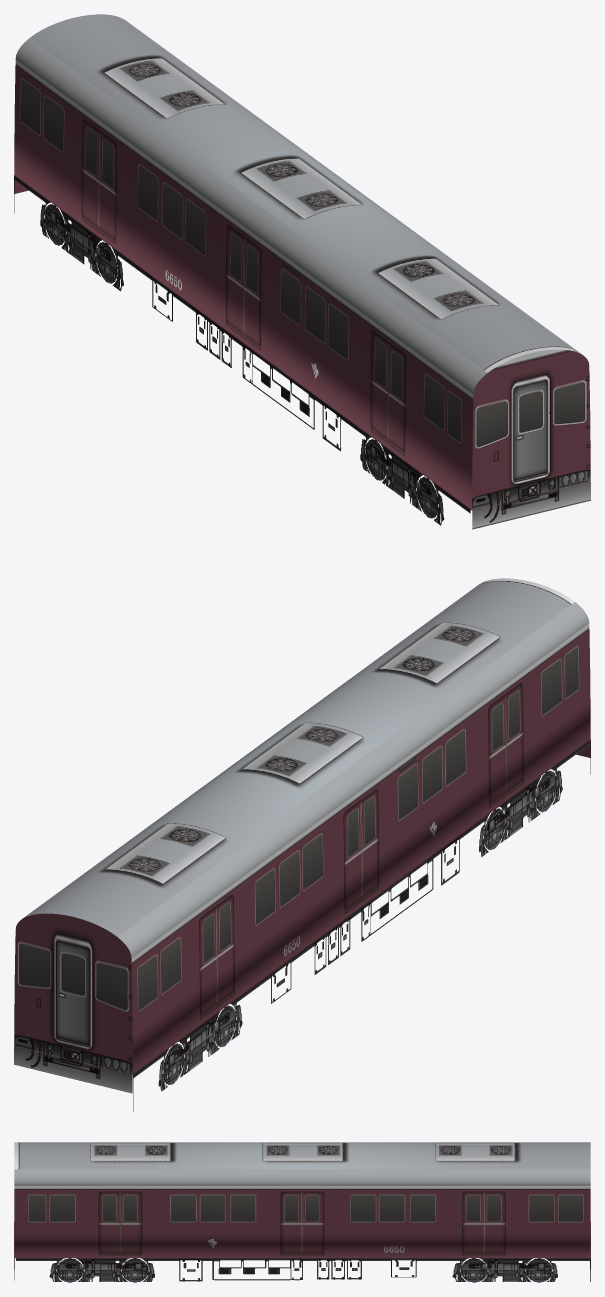
The model's file is car2.glb.
3 views of the same model, one above another, from view 1: azimuth 30°, elevation 25°; view 2: azimuth 150°, elevation 25°; view 3: azimuth 270°, elevation 25° (orthographic). The views are drawn at different scales.
Parts seen in each view (by area): view 1: hankyu6000-car2; view 2: hankyu6000-car2; view 3: hankyu6000-car2.
Boxes of the visible parts, x1,y1,x2,y2 form: hankyu6000-car2: [14, 14, 590, 529]; hankyu6000-car2: [14, 578, 590, 1111]; hankyu6000-car2: [14, 1142, 590, 1282].
Bounding box in the file's own units: 2.75 × 4.04 × 18.43.
Materials: 8 (7 with a texture image).
